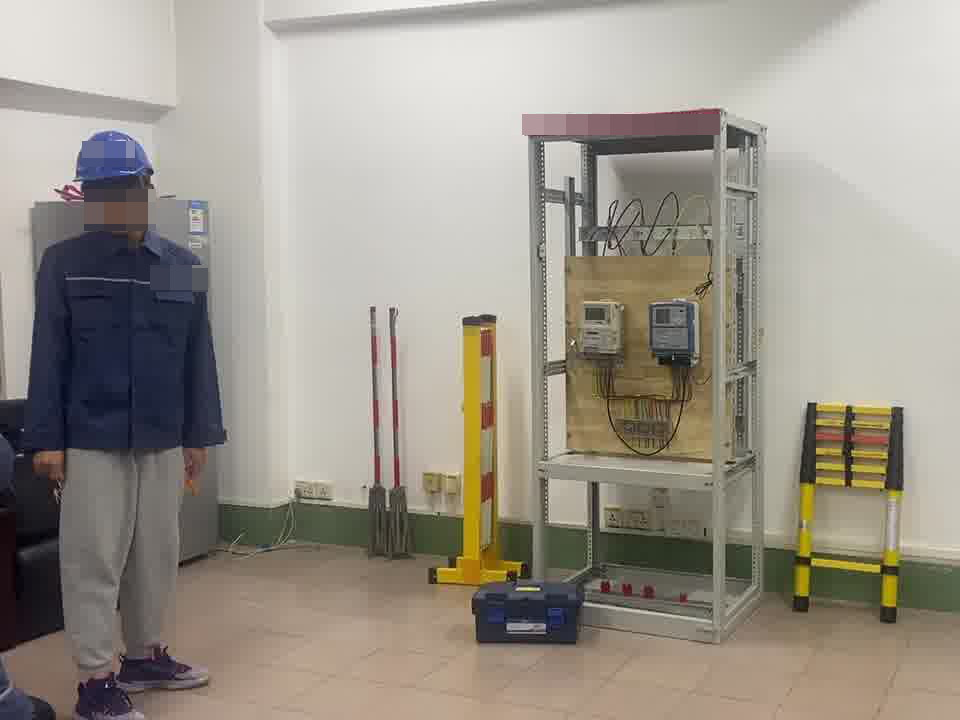downcloth: (41, 449, 194, 682)
halt: (74, 128, 159, 238)
hand: (27, 446, 71, 479), (182, 444, 213, 483)
inear: (134, 176, 162, 230)
person: (4, 125, 234, 715)
upsuit: (16, 230, 226, 456)
